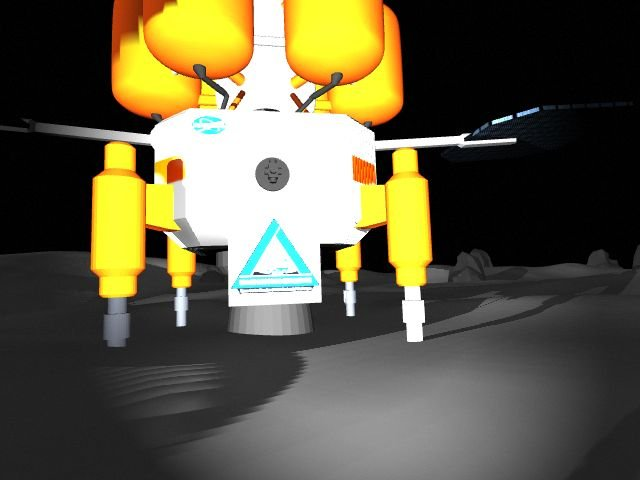basemarker: (230, 219, 320, 294)
